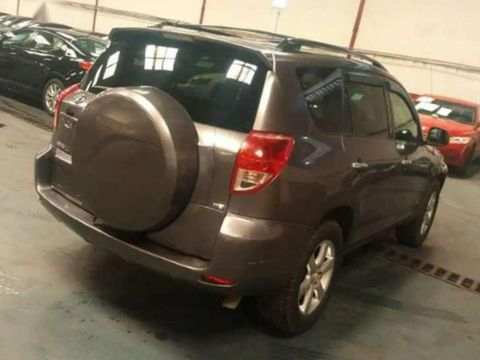Toyota RAV-4: (33, 20, 449, 337)
